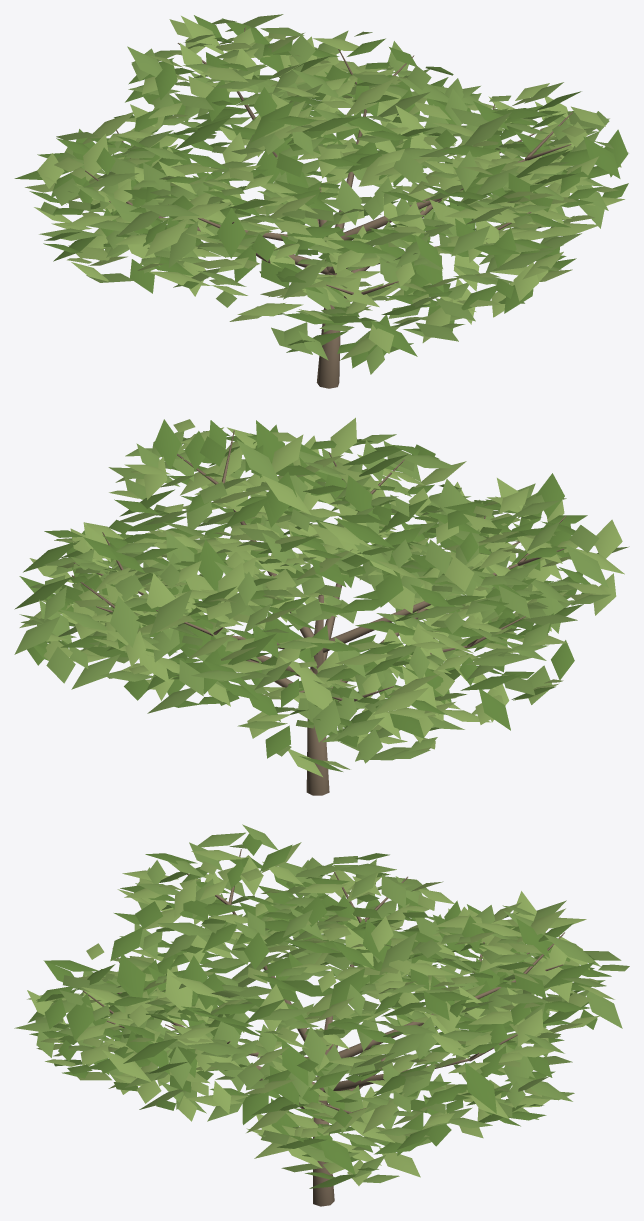
Rendered from street_tree.glb.
The picture shows the model from 3 angles, top to bottom: view 1: azimuth 30°, elevation 25°; view 2: azimuth 150°, elevation 25°; view 3: azimuth 270°, elevation 25°; orthographic projection. The views are drawn at different scales.
Parts seen in each view (by area): view 1: StreetTree_LeafCups, StreetTree_Branches; view 2: StreetTree_LeafCups, StreetTree_Branches; view 3: StreetTree_LeafCups, StreetTree_Branches.
Part boxes in pixels (bbox=[...]): StreetTree_LeafCups: bbox=[14, 14, 628, 374]; StreetTree_Branches: bbox=[85, 27, 572, 388]; StreetTree_LeafCups: bbox=[14, 417, 629, 776]; StreetTree_Branches: bbox=[72, 430, 566, 795]; StreetTree_LeafCups: bbox=[14, 824, 629, 1188]; StreetTree_Branches: bbox=[83, 849, 564, 1206].
Size of the model in its own units: 1.93 by 1 by 1.92.
